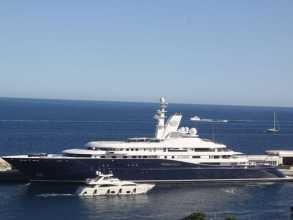yacht: (1, 102, 281, 183), (80, 169, 155, 196)
